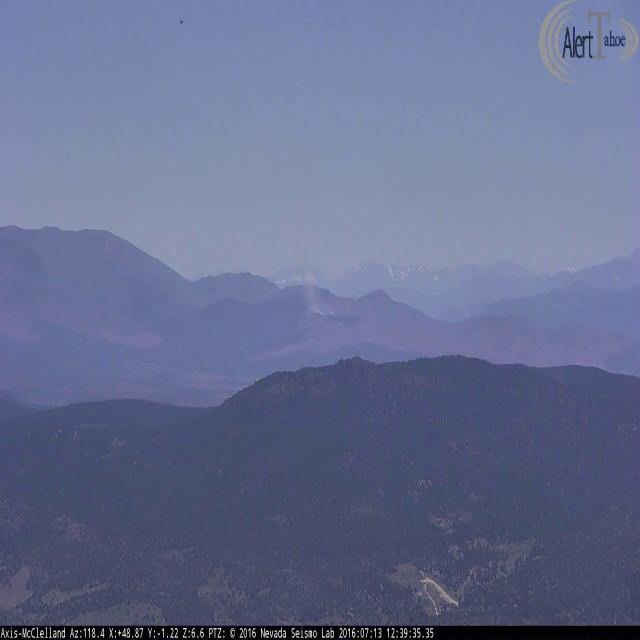smoke: (290, 239, 336, 316)
